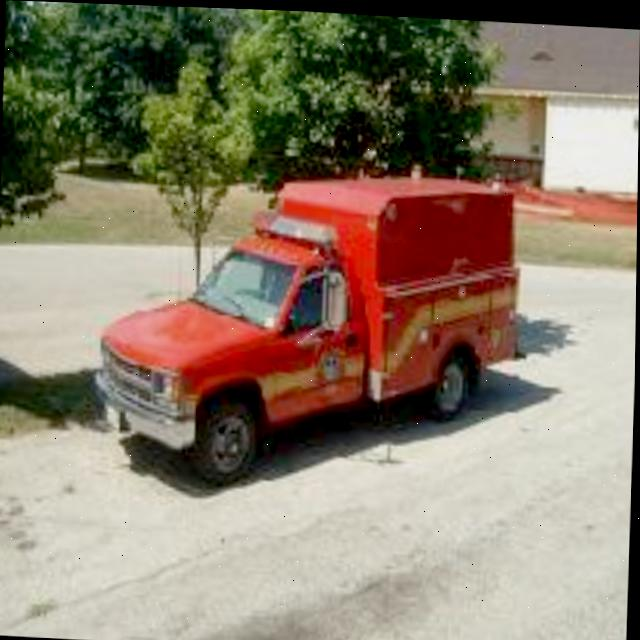emergency: (93, 155, 523, 457)
